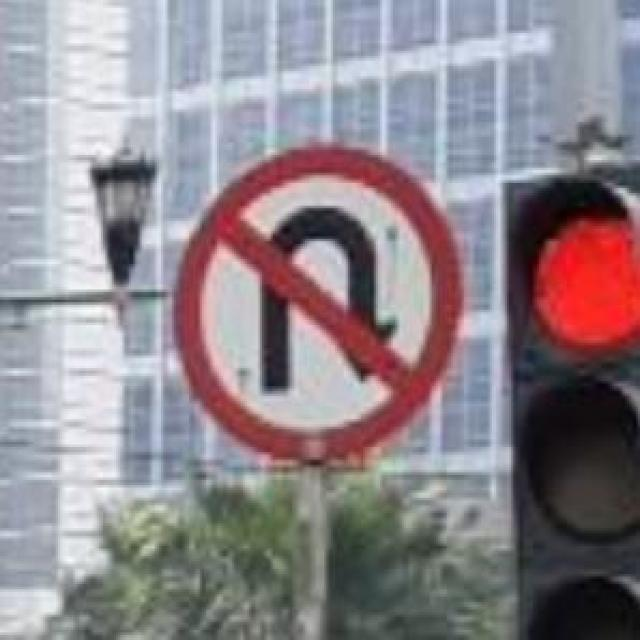traffic sign: (176, 150, 460, 462)
